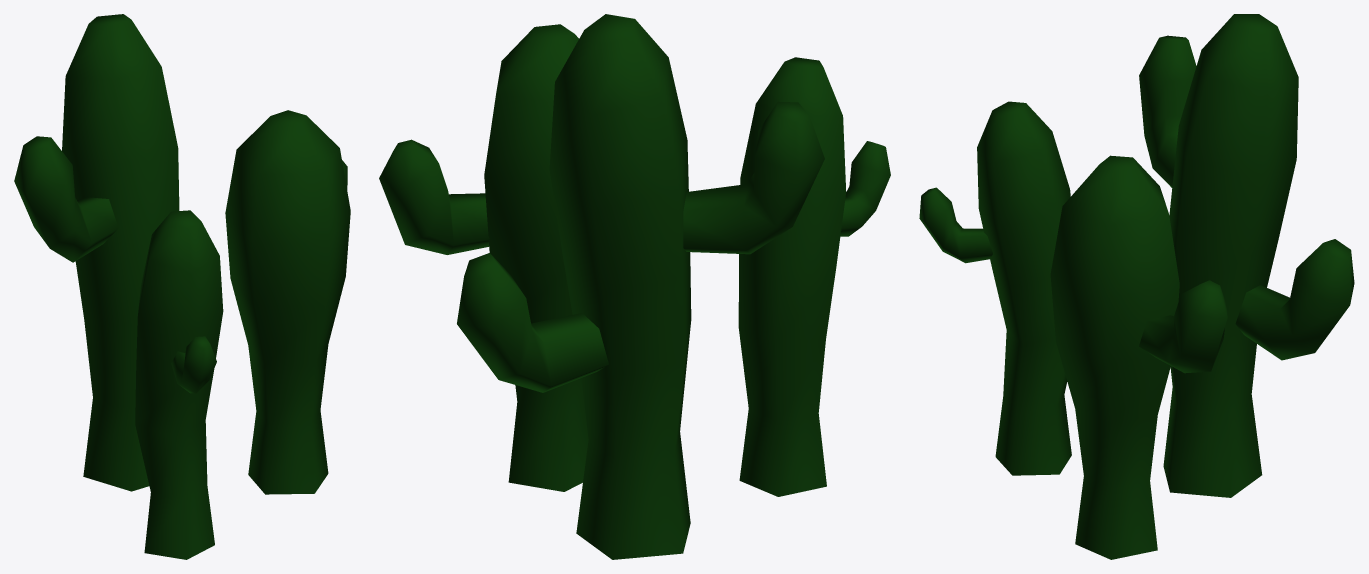
Rendered from Cactus.fbx.
The picture shows the model from 3 angles, left to right: view 1: azimuth 30°, elevation 25°; view 2: azimuth 150°, elevation 25°; view 3: azimuth 270°, elevation 25°; orthographic projection. The views are drawn at different scales.
Visible parts, largest first — view 1: Cactus; view 2: Cactus; view 3: Cactus.
Boxes of the visible parts, box(x1,y1,x2,y2) form: Cactus: box(14, 14, 350, 559); Cactus: box(379, 14, 890, 559); Cactus: box(919, 14, 1354, 559).
Size of the model in its own units: 262 by 327 by 278.
